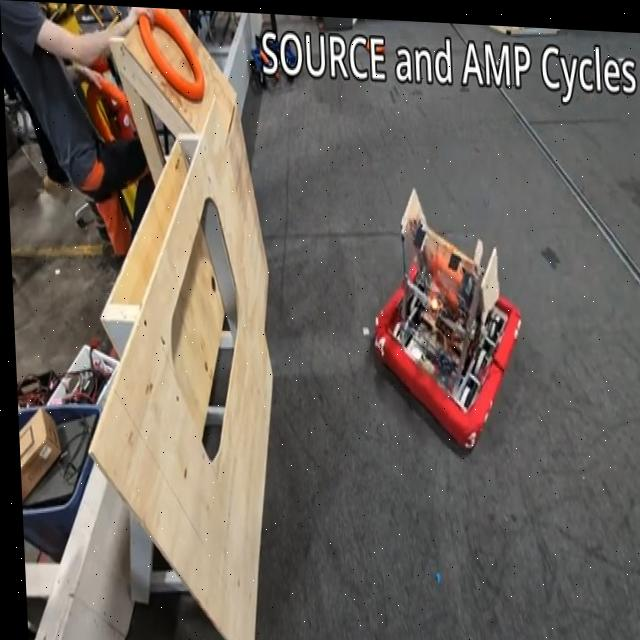note: (137, 6, 204, 100), (85, 73, 135, 141)
robot: (363, 177, 524, 452)
